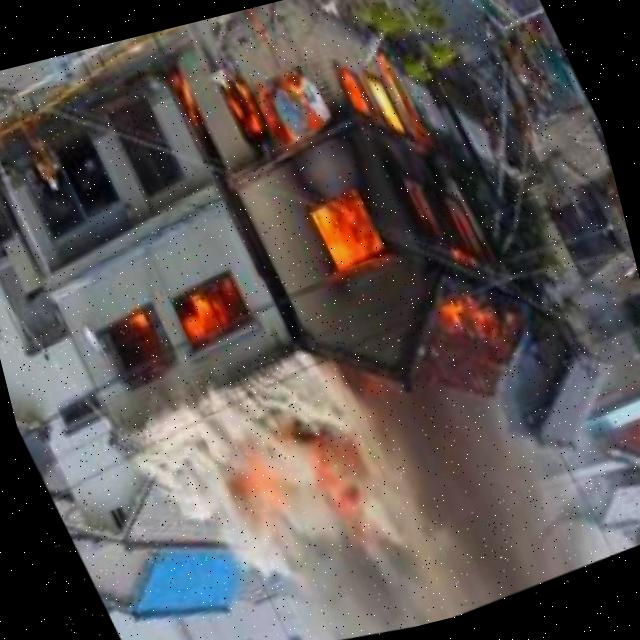fire: (209, 17, 546, 411), (94, 276, 257, 404)
